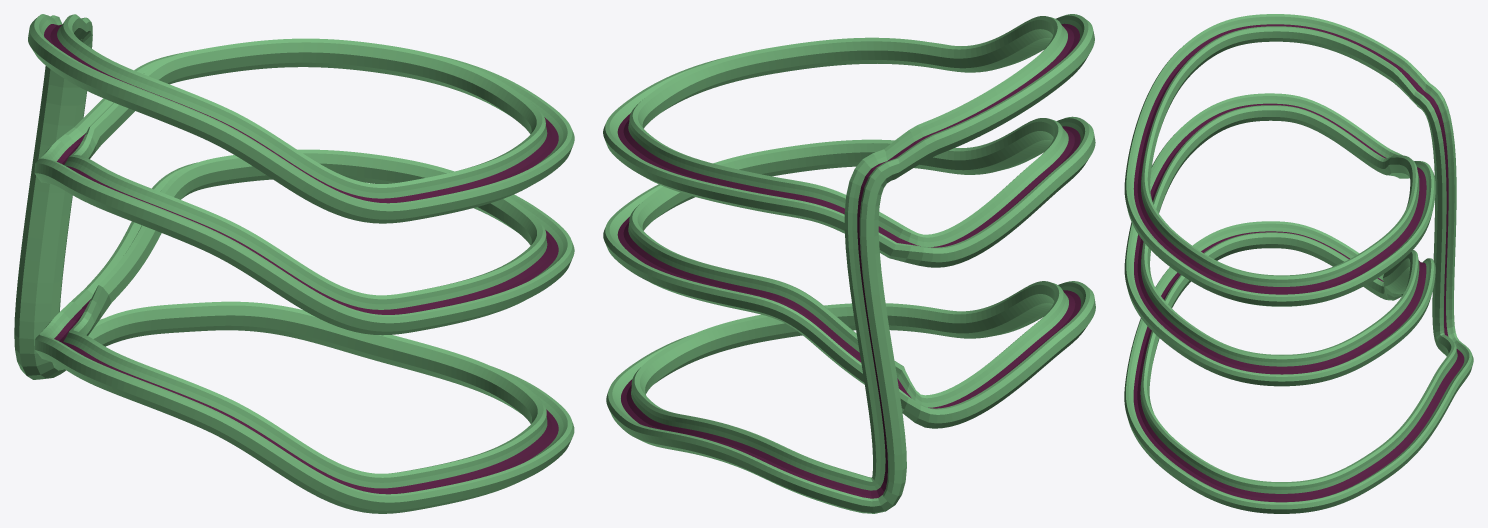
File: upgrade2level2.fbx
3 renders of one model, left to right at view 1: azimuth 30°, elevation 25°; view 2: azimuth 150°, elevation 25°; view 3: azimuth 270°, elevation 25°, orthographic. The views are drawn at different scales.
Parts seen in each view (by area): view 1: upgrade2level2; view 2: upgrade2level2; view 3: upgrade2level2.
Boxes of the visible parts, x1,y1,x2,y2 form: upgrade2level2: [14, 14, 574, 513]; upgrade2level2: [603, 14, 1095, 513]; upgrade2level2: [1124, 14, 1473, 513].
Size of the model in its own units: 1134 by 1051 by 985.
